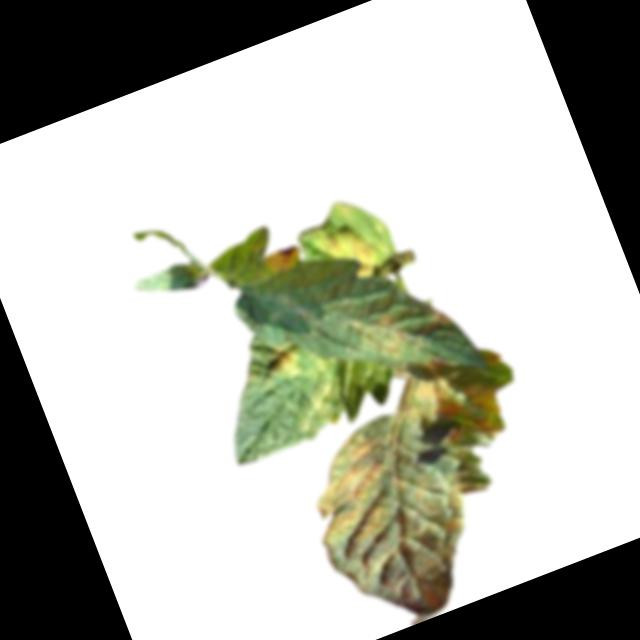Leaf_Mold: (284, 368, 567, 640), (351, 301, 420, 369), (319, 219, 386, 289), (300, 375, 349, 430), (265, 340, 308, 385), (263, 242, 305, 278), (422, 300, 457, 337)
